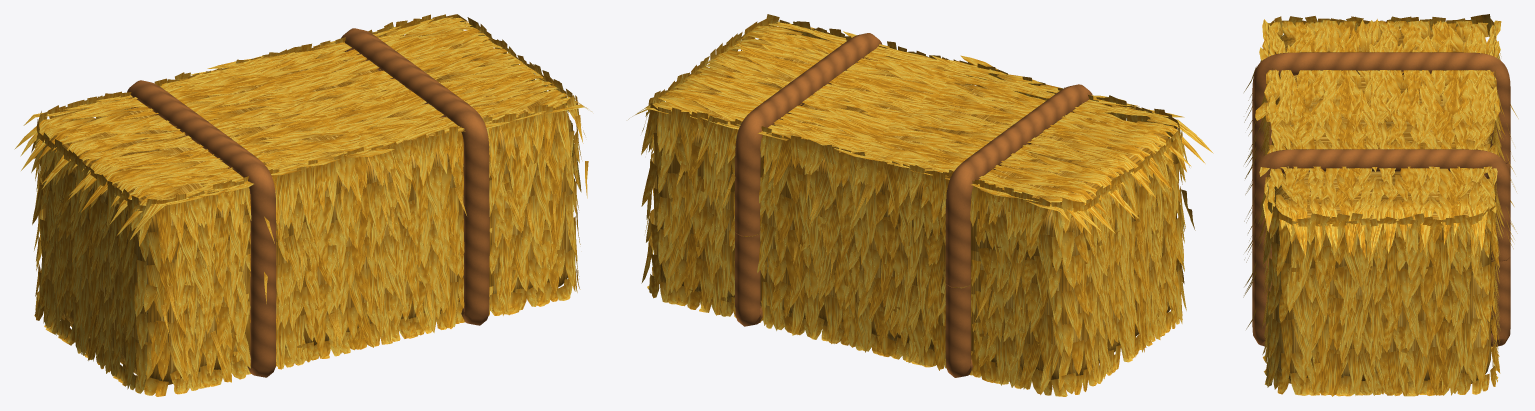
The model's file is hay_bale.glb.
3 renders of one model, left to right at view 1: azimuth 30°, elevation 25°; view 2: azimuth 150°, elevation 25°; view 3: azimuth 270°, elevation 25°, orthographic. The views are drawn at different scales.
Visible parts, largest first — view 1: model; view 2: model; view 3: model.
Part boxes in pixels (box(x1,y1,x2,y2)): model: box(14, 14, 591, 396); model: box(628, 14, 1213, 396); model: box(1243, 14, 1518, 396).
Bounding box in the file's own units: 1.02 × 0.417 × 0.5339.
Materials: 3 (3 with a texture image).
